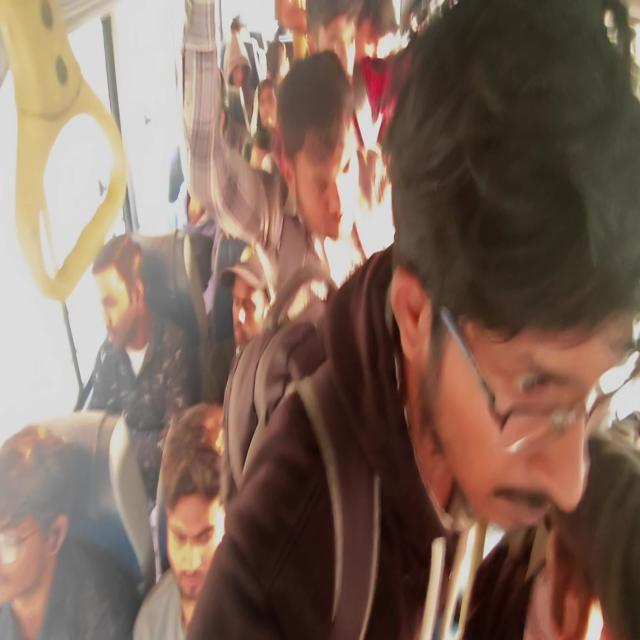person: (396, 44, 640, 640), (1, 434, 132, 640), (285, 68, 370, 246), (176, 412, 228, 608), (92, 244, 157, 366), (163, 150, 238, 249), (234, 243, 266, 351), (248, 72, 287, 153), (270, 28, 300, 83), (224, 34, 240, 96), (231, 16, 251, 49)
